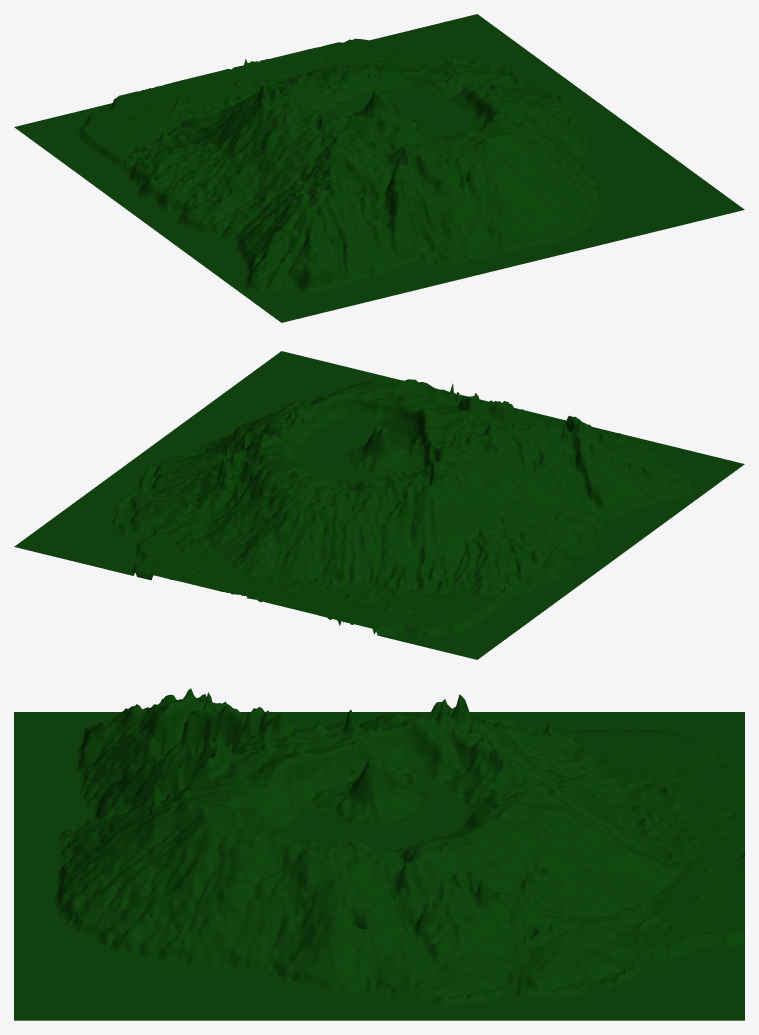
The model's file is island_test.FBX.
3 views of the same model, one above another, from view 1: azimuth 30°, elevation 25°; view 2: azimuth 150°, elevation 25°; view 3: azimuth 270°, elevation 25° (orthographic). The views are drawn at different scales.
Parts seen in each view (by area): view 1: Plane001; view 2: Plane001; view 3: Plane001.
Boxes of the visible parts, <box> form: Plane001: <box>14,14,744,322</box>; Plane001: <box>14,351,744,659</box>; Plane001: <box>14,688,744,1020</box>.
Bounding box in the file's own units: 140 × 24.37 × 140.
